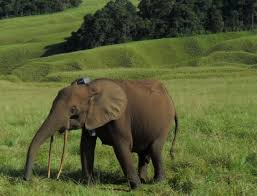Elephant: (20, 73, 182, 188)
